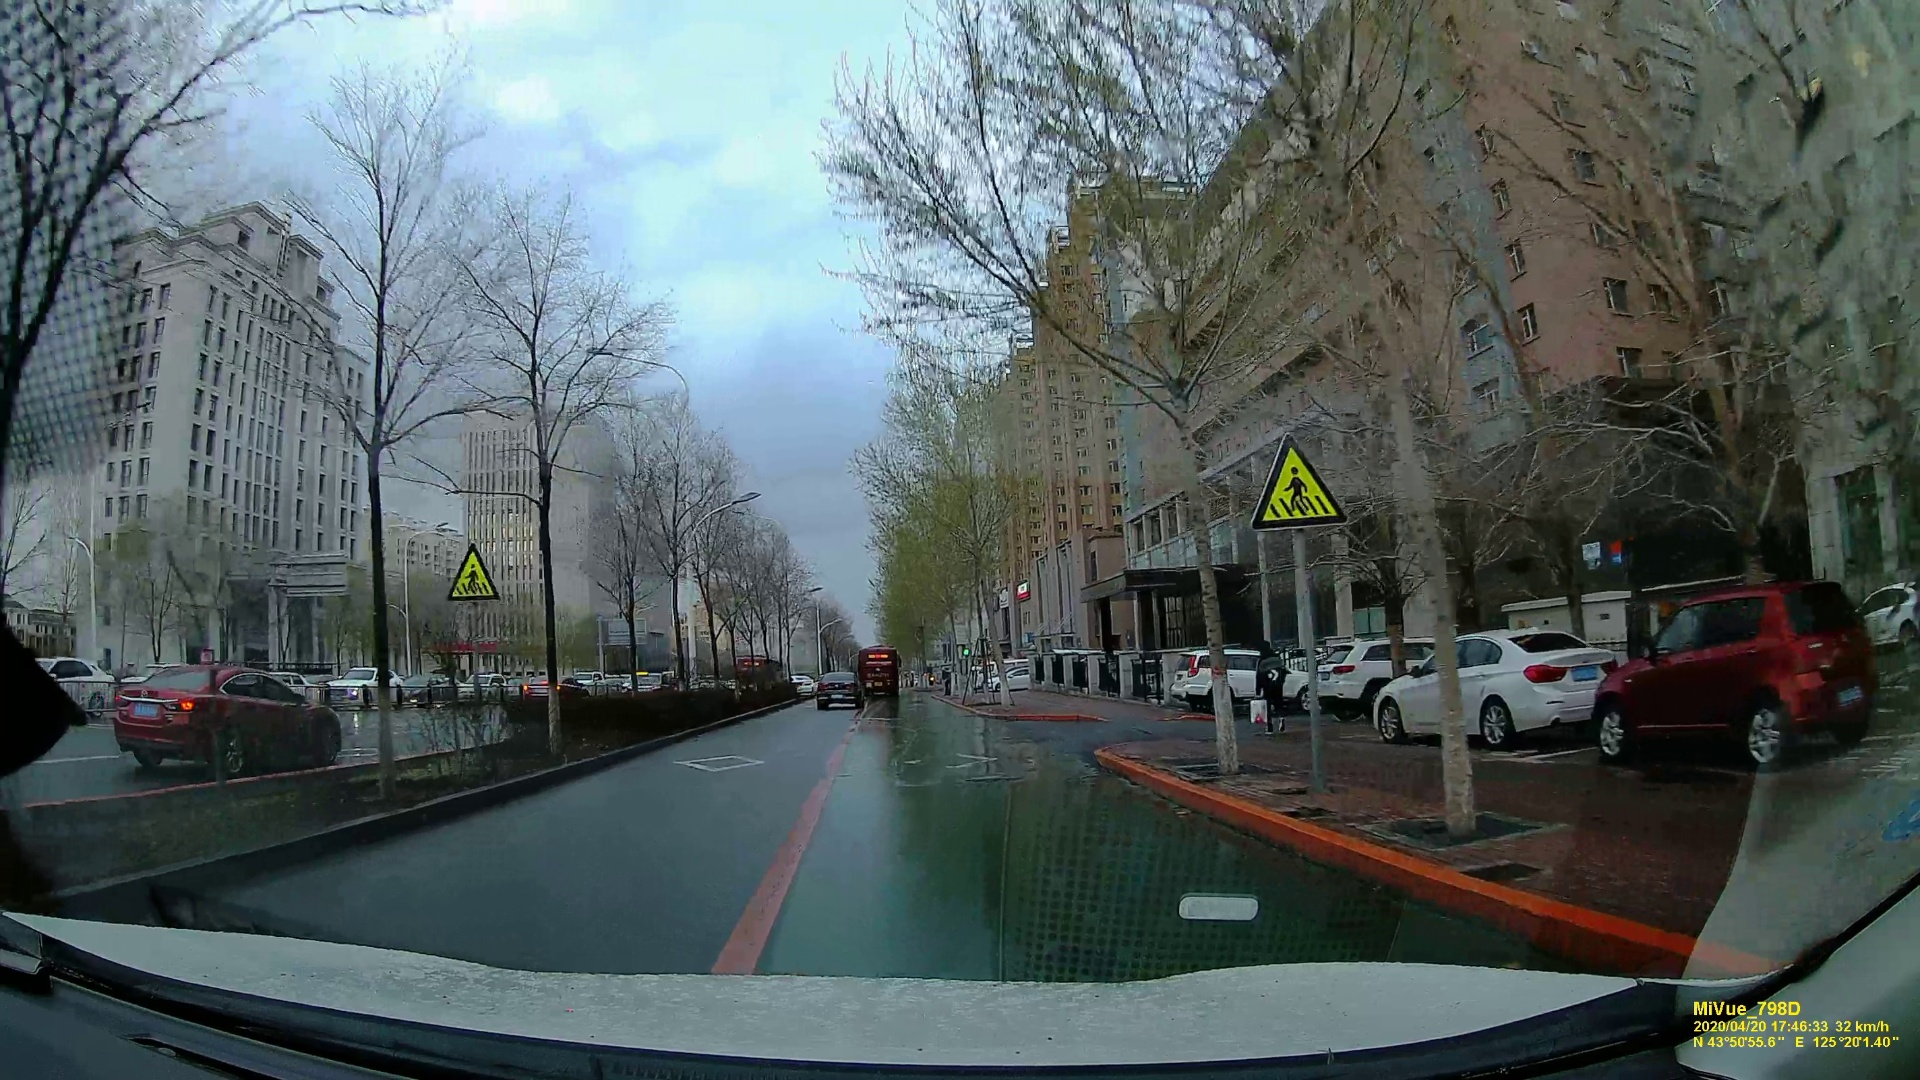bus: (856, 648, 903, 701)
person: (1254, 634, 1284, 742)
traffic_sign: (1253, 445, 1339, 531), (442, 544, 496, 601)
vehicle: (1613, 577, 1879, 776), (1354, 627, 1627, 749), (119, 666, 348, 777), (1861, 585, 1920, 650), (808, 670, 861, 709)
